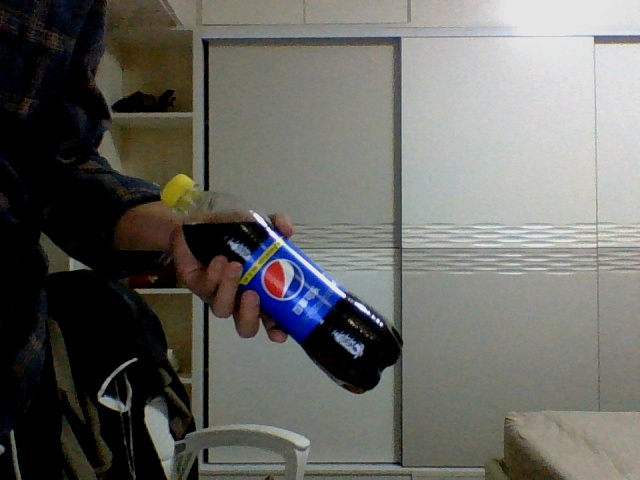Cola: (161, 173, 403, 394)
